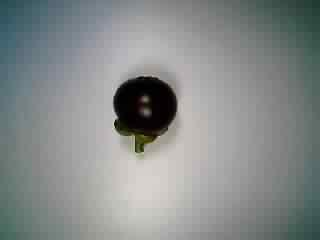mangosteen: (102, 69, 187, 158)
